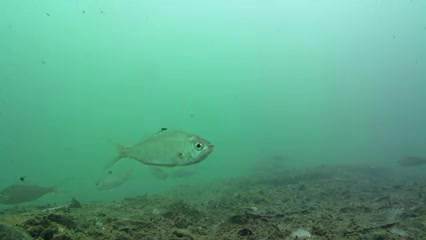smallfish: (107, 129, 217, 171), (1, 177, 64, 204), (94, 167, 141, 192)
